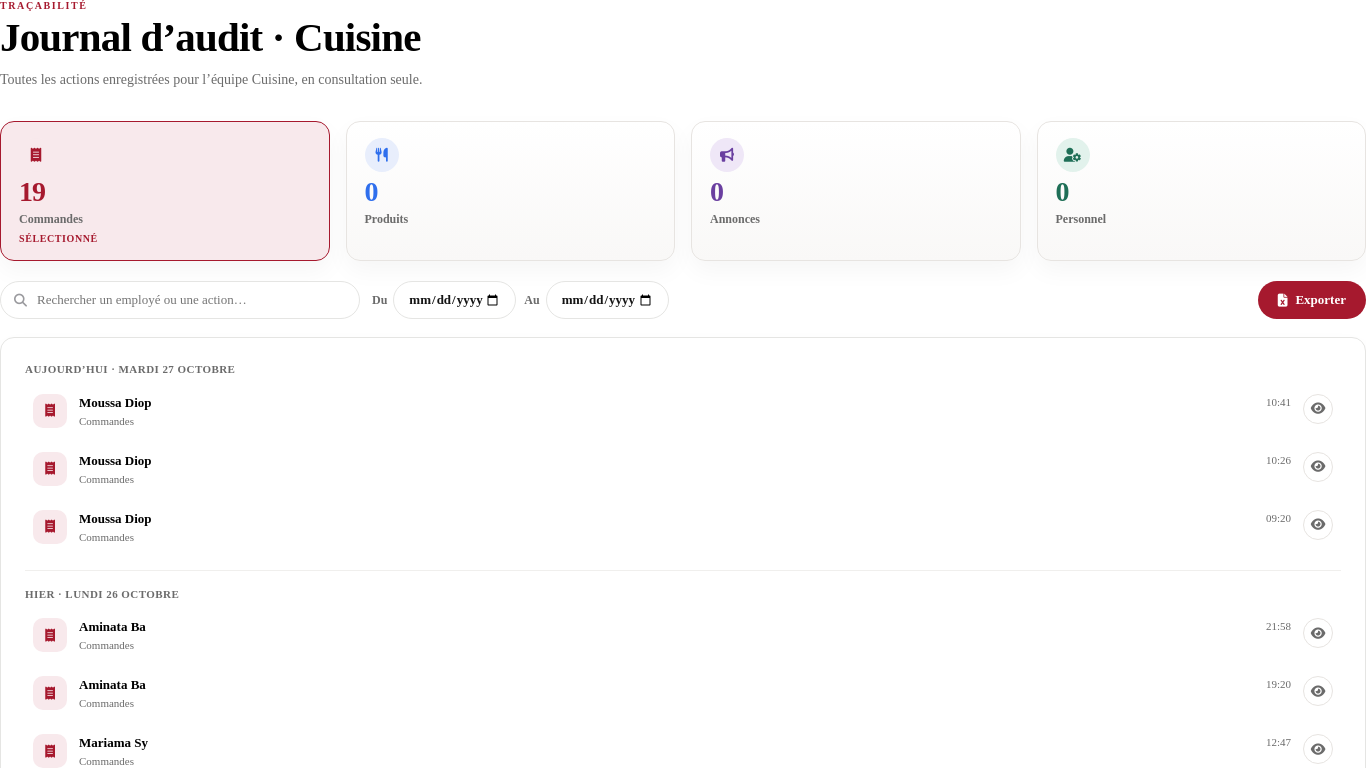
Test: Journal d’audit page › opens the full detail (role, description, date) on the view icon, and closes it
Expected: the text "a passé la commande #482 en préparation" is not shown
Click the button named "Voir le détail" next to "10:41" at (1318, 409), box [1303,394,1333,424]
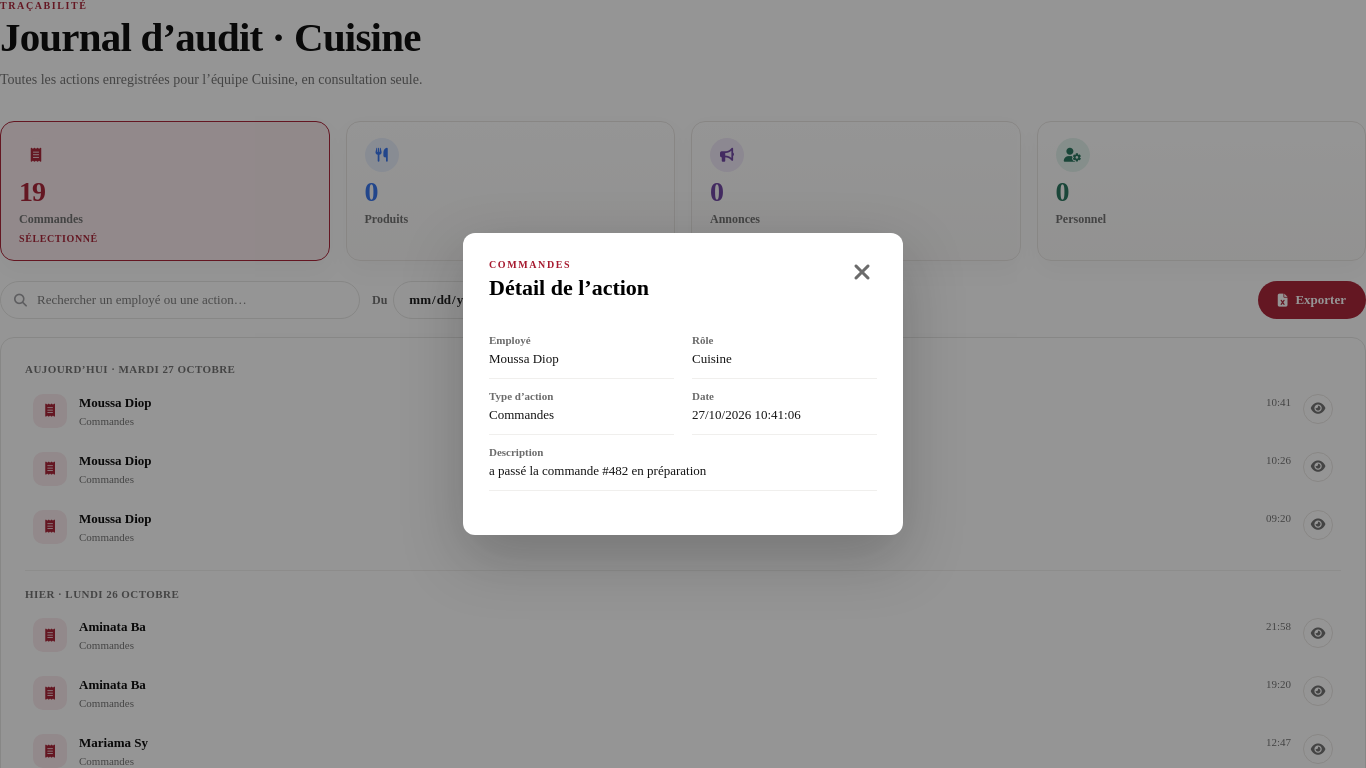
Expected: the text "a passé la commande #482 en préparation" is shown, [489,463,706,478]
Expected: the text "Cuisine" is shown, [692,351,732,366]
Click the button named "Fermer" at (862, 273), box [847,259,877,286]
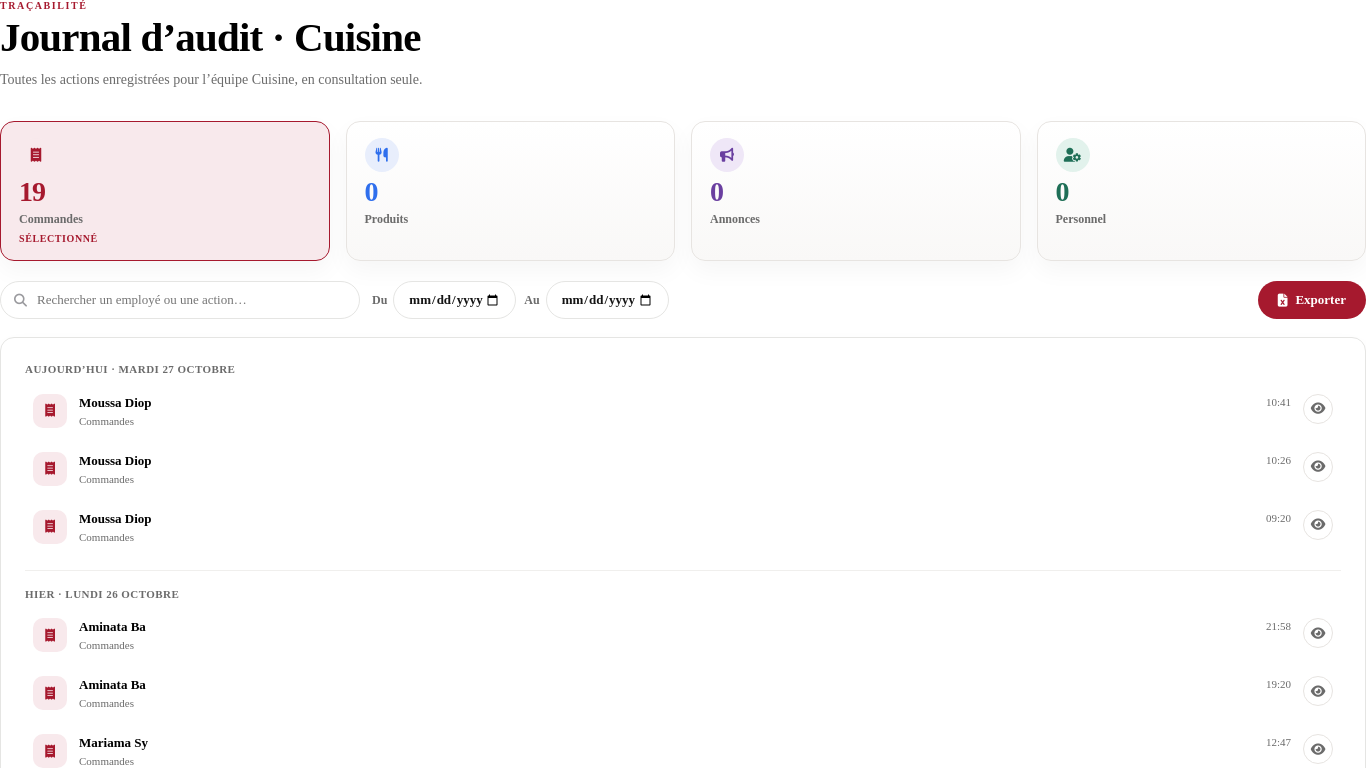
Expected: the dialog is gone
